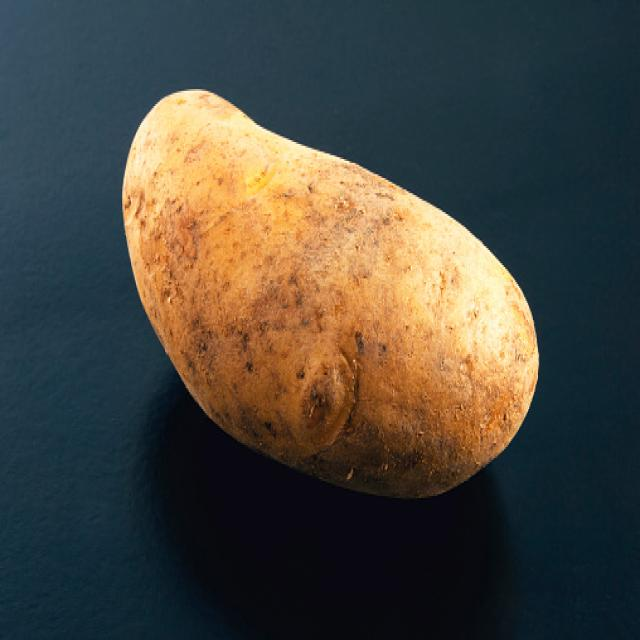potato: (120, 87, 540, 498)
